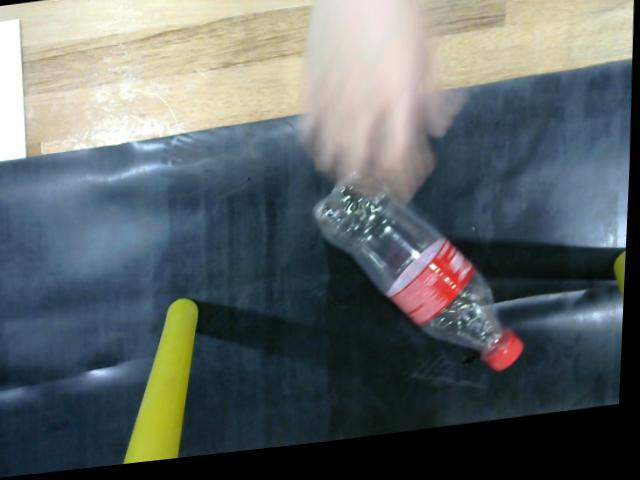bottle: (309, 158, 534, 395)
